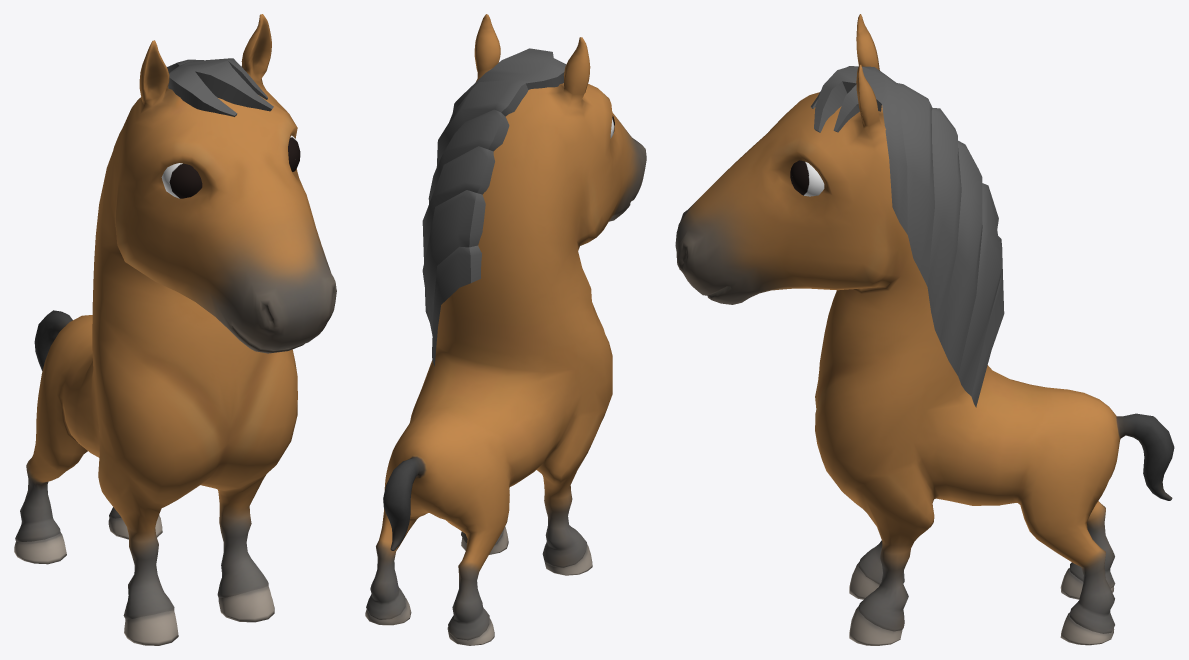
Rendered from horse.fbx.
The picture shows the model from 3 angles, left to right: view 1: azimuth 30°, elevation 25°; view 2: azimuth 150°, elevation 25°; view 3: azimuth 270°, elevation 25°; orthographic projection. The views are drawn at different scales.
Visible parts, largest first — view 1: body, superLowResHair, eyeRight; view 2: body, superLowResHair; view 3: body, superLowResHair, eyeLeft.
Part boxes in pixels (x1,y1,x2,y2): body: (14, 14, 336, 645); superLowResHair: (167, 58, 273, 116); eyeRight: (161, 163, 202, 198); body: (365, 14, 646, 645); superLowResHair: (422, 48, 566, 366); body: (675, 14, 1174, 645); superLowResHair: (810, 66, 1004, 407); eyeLeft: (790, 160, 824, 196).
Size of the model in its own units: 0.9796 by 3.06 by 2.42.
4 materials, 2 textured.
